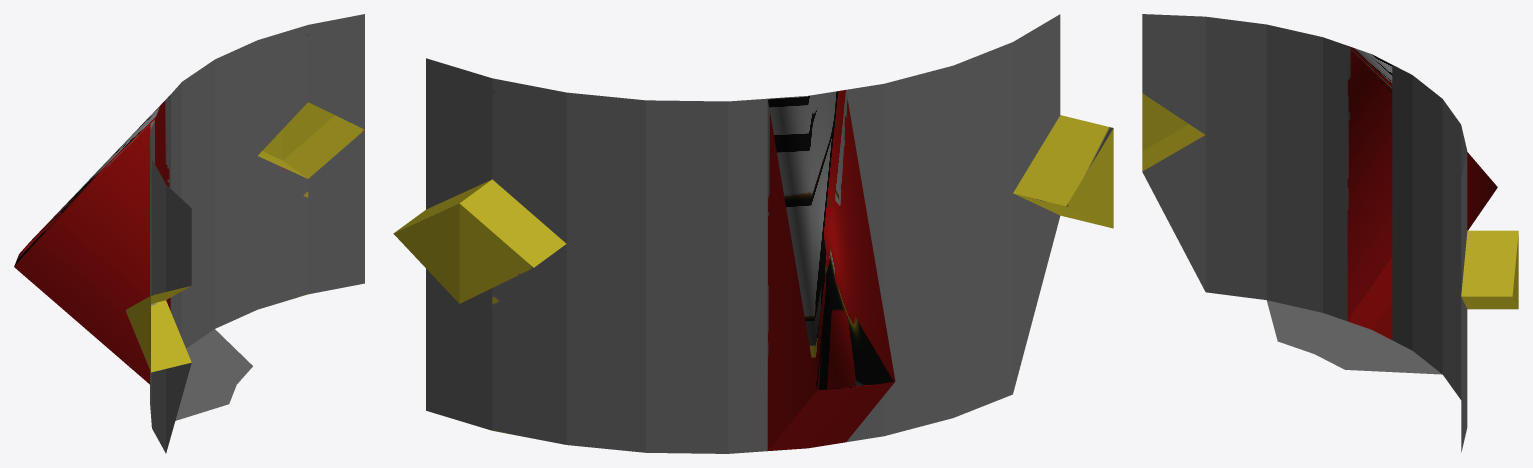
Rendered from enemyMiniRobotBreak05.obj.
3 views of the same model, side by side, from view 1: azimuth 30°, elevation 25°; view 2: azimuth 150°, elevation 25°; view 3: azimuth 270°, elevation 25° (orthographic). The views are drawn at different scales.
Parts seen in each view (by area): view 1: 球; view 2: 球; view 3: 球.
Boxes of the visible parts, box(x1,y1,x2,y2) form: 球: box(14, 14, 364, 453); 球: box(393, 14, 1113, 453); 球: box(1142, 14, 1518, 452).
Size of the model in its own units: 1.32 by 0.922 by 1.14.
Materials: 1 (1 with a texture image).
